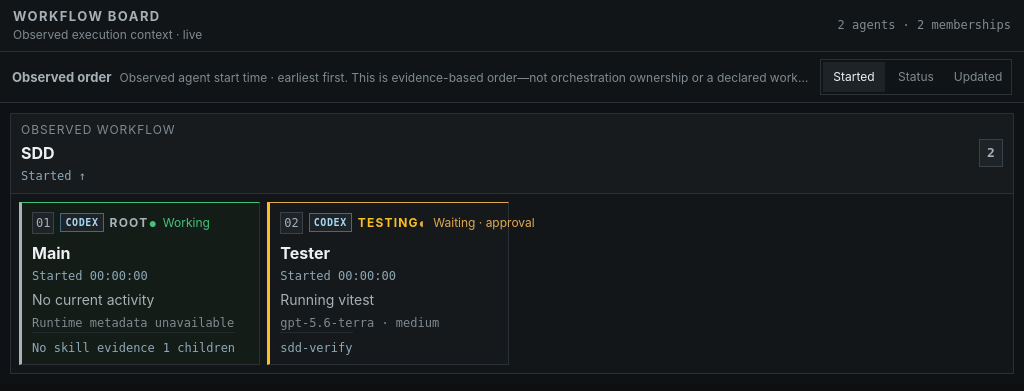
dashboard interactions › orders workflow agents by observed start, update, or status
The image size is (1024, 391).
Expected: the text "Started ↑" is shown, [21, 169, 86, 183]
Click the button "Updated" at (978, 77), box [947, 62, 1009, 92]
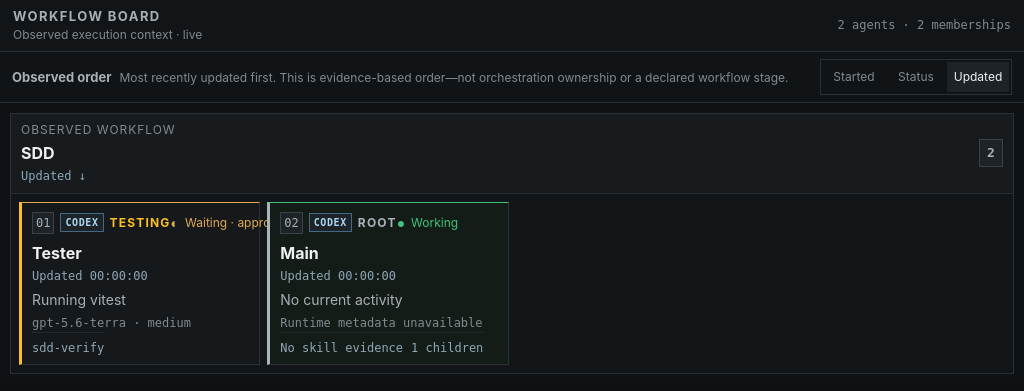
Expected: the text "Updated ↓" is shown, [21, 169, 86, 183]
Click the button "Status" at (916, 77), box [885, 62, 947, 92]
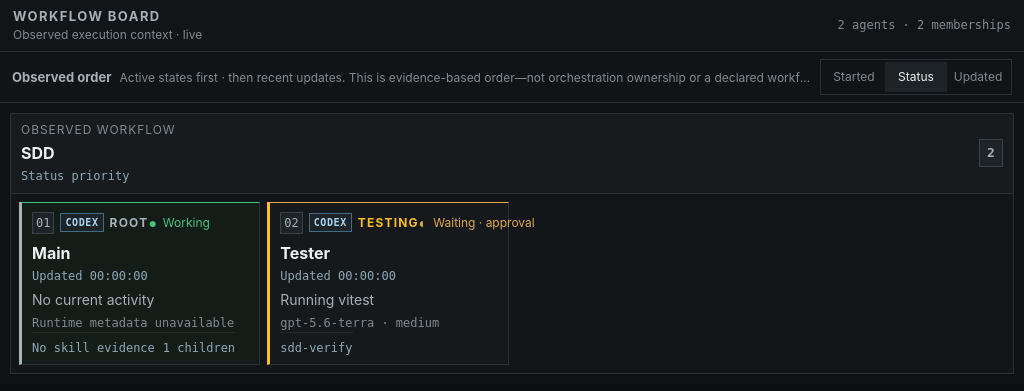
Expected: the text "Status priority" is shown, [21, 169, 129, 183]
